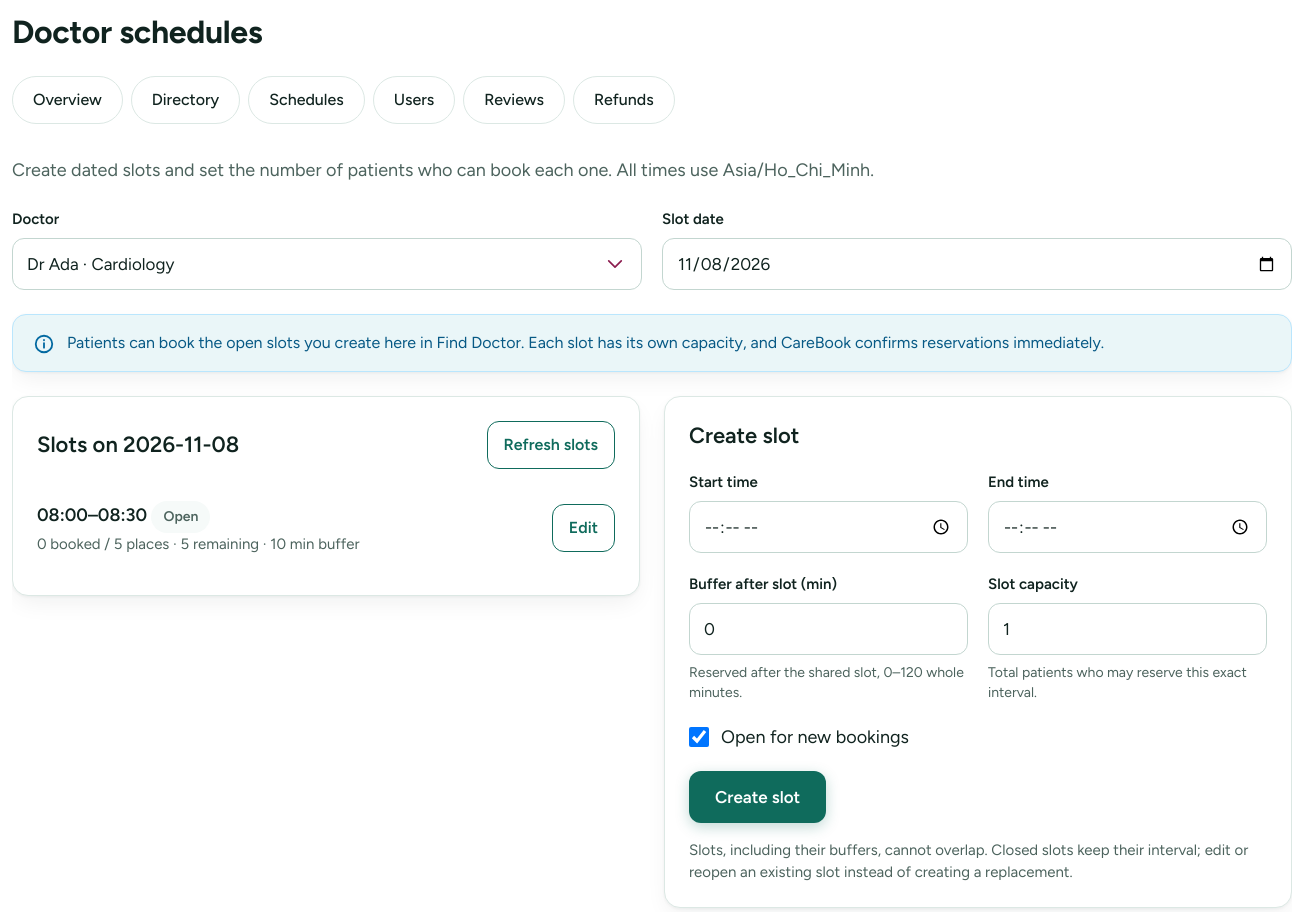
it: preserves the selected slot and attempted values after a failed edit
The width and height of the screenshot is (1304, 912).
Click the button with aria-label "Edit slot 08:00". click: (583, 528)
box: [552,504,615,552]
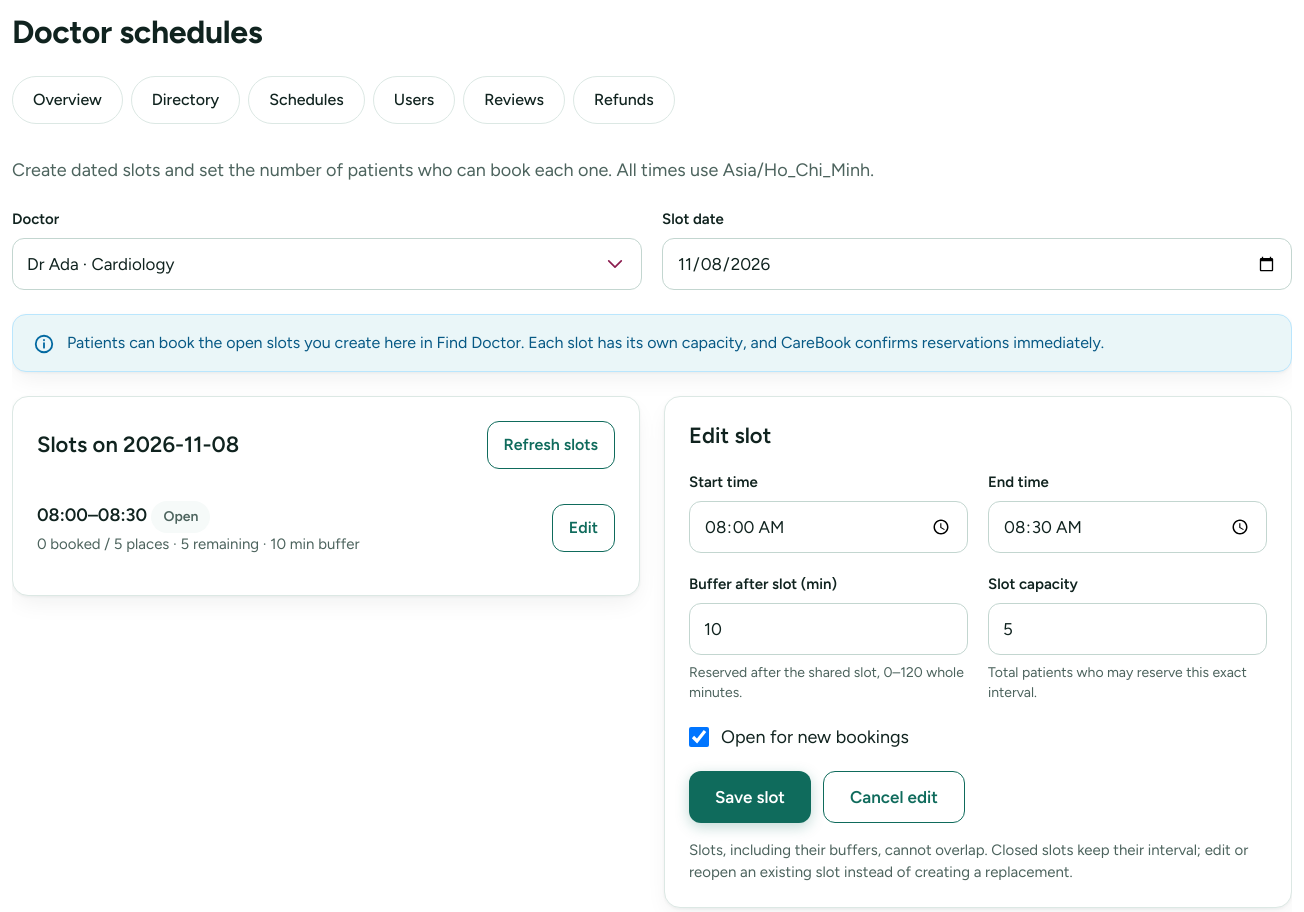
Replace the text in the number field labelled "Buffer after slot (min)" with "15". click: (828, 629)
box: [689,603,968,655]
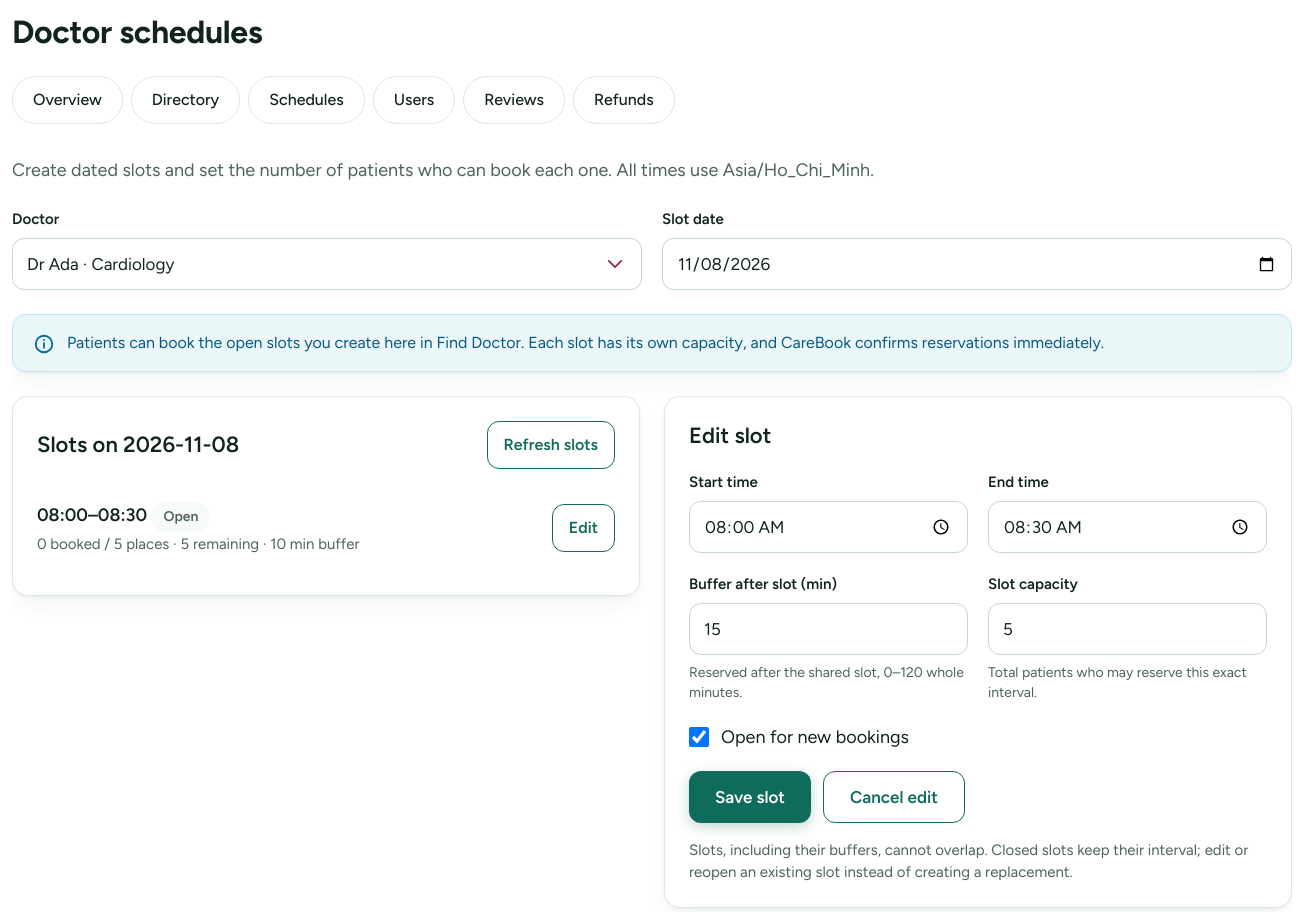
Replace the text in the number field labelled "Slot capacity" with "7". click: (1128, 629)
box: [988,603,1267,655]
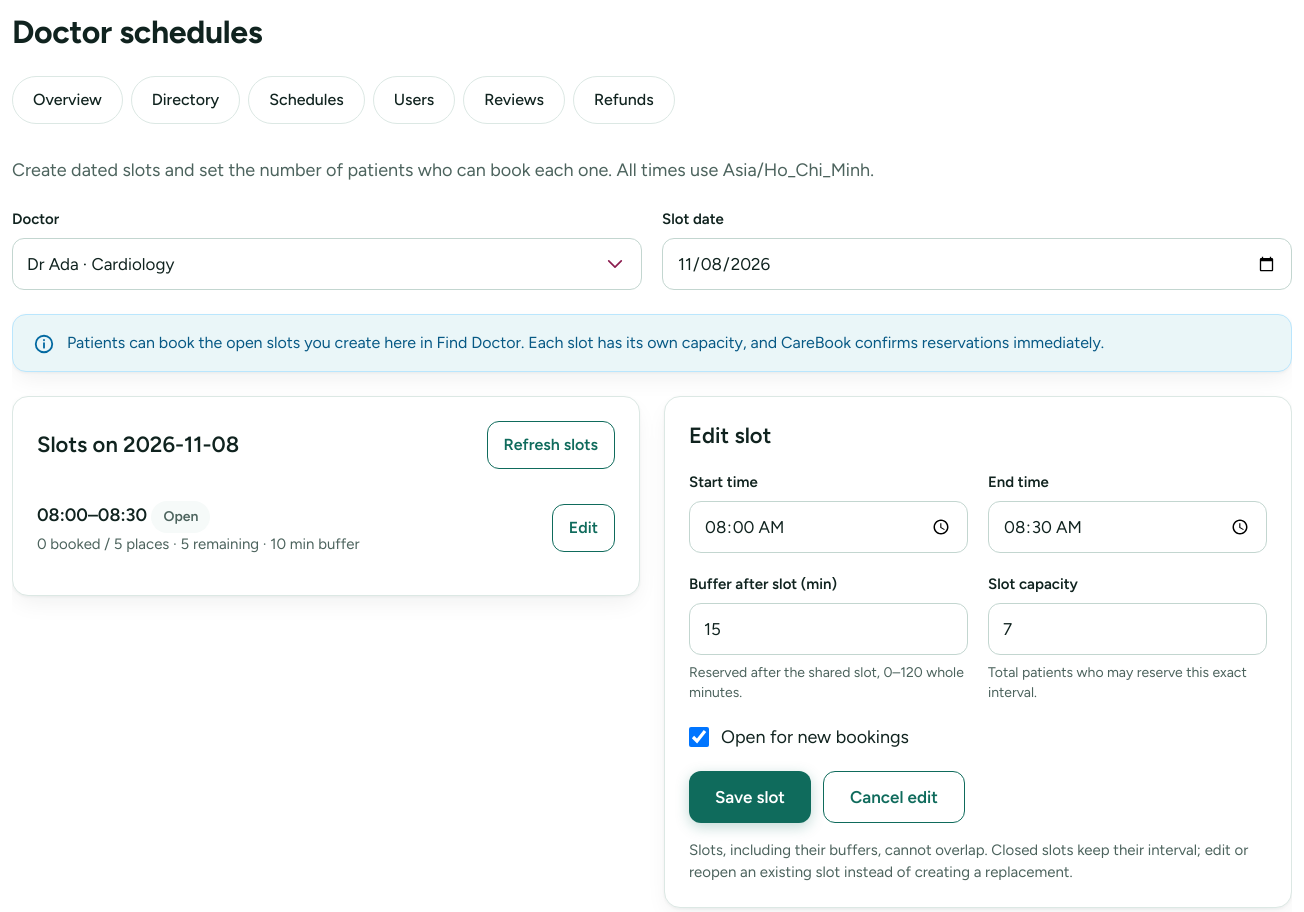
Click the button "Save slot". click: (750, 797)
box: [689,771,811,823]
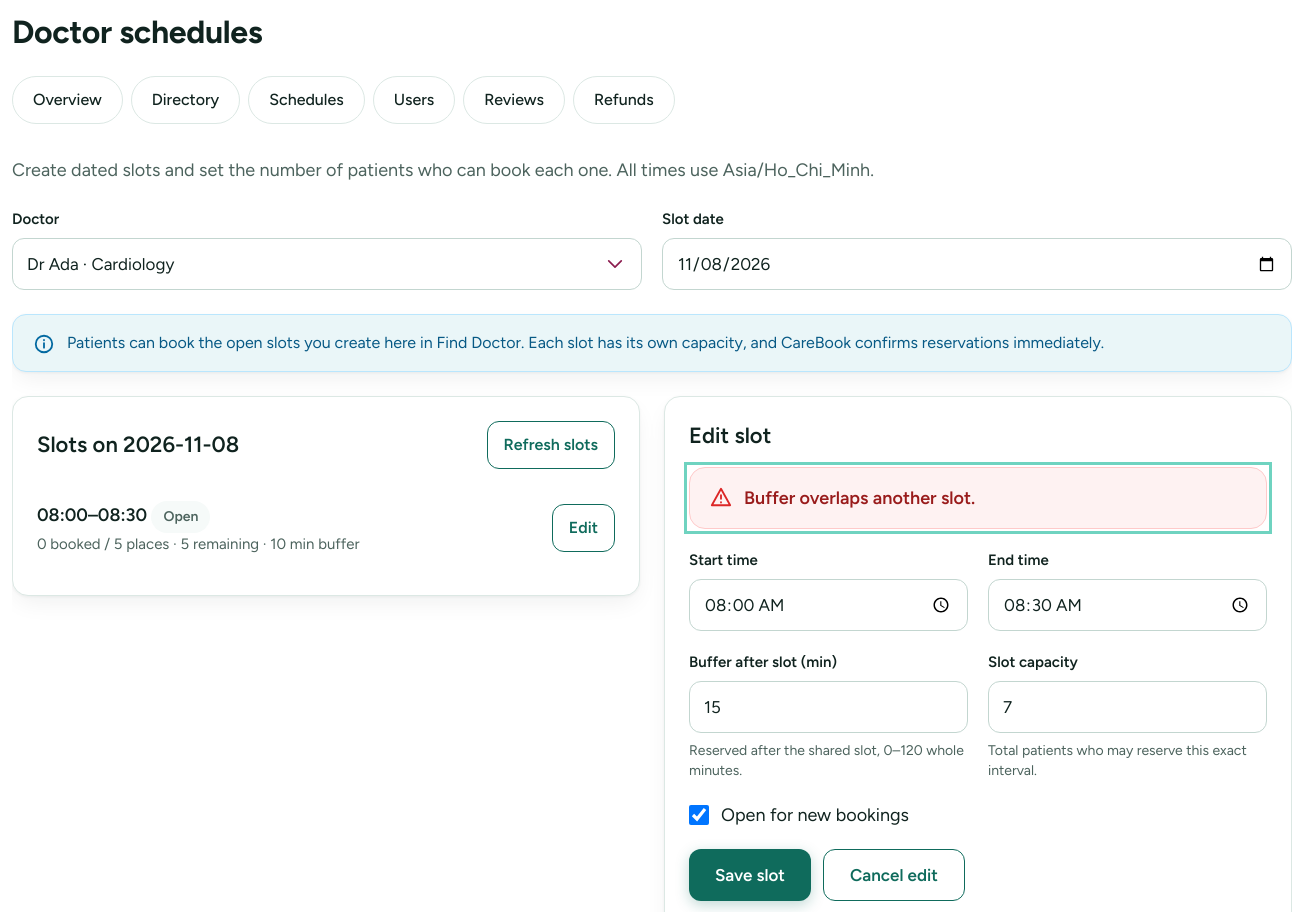
Check: the button "Save slot" is enabled, box [689,849,811,901]
Check: the message reads "Buffer overlaps another slot.", box [744,487,975,509]
